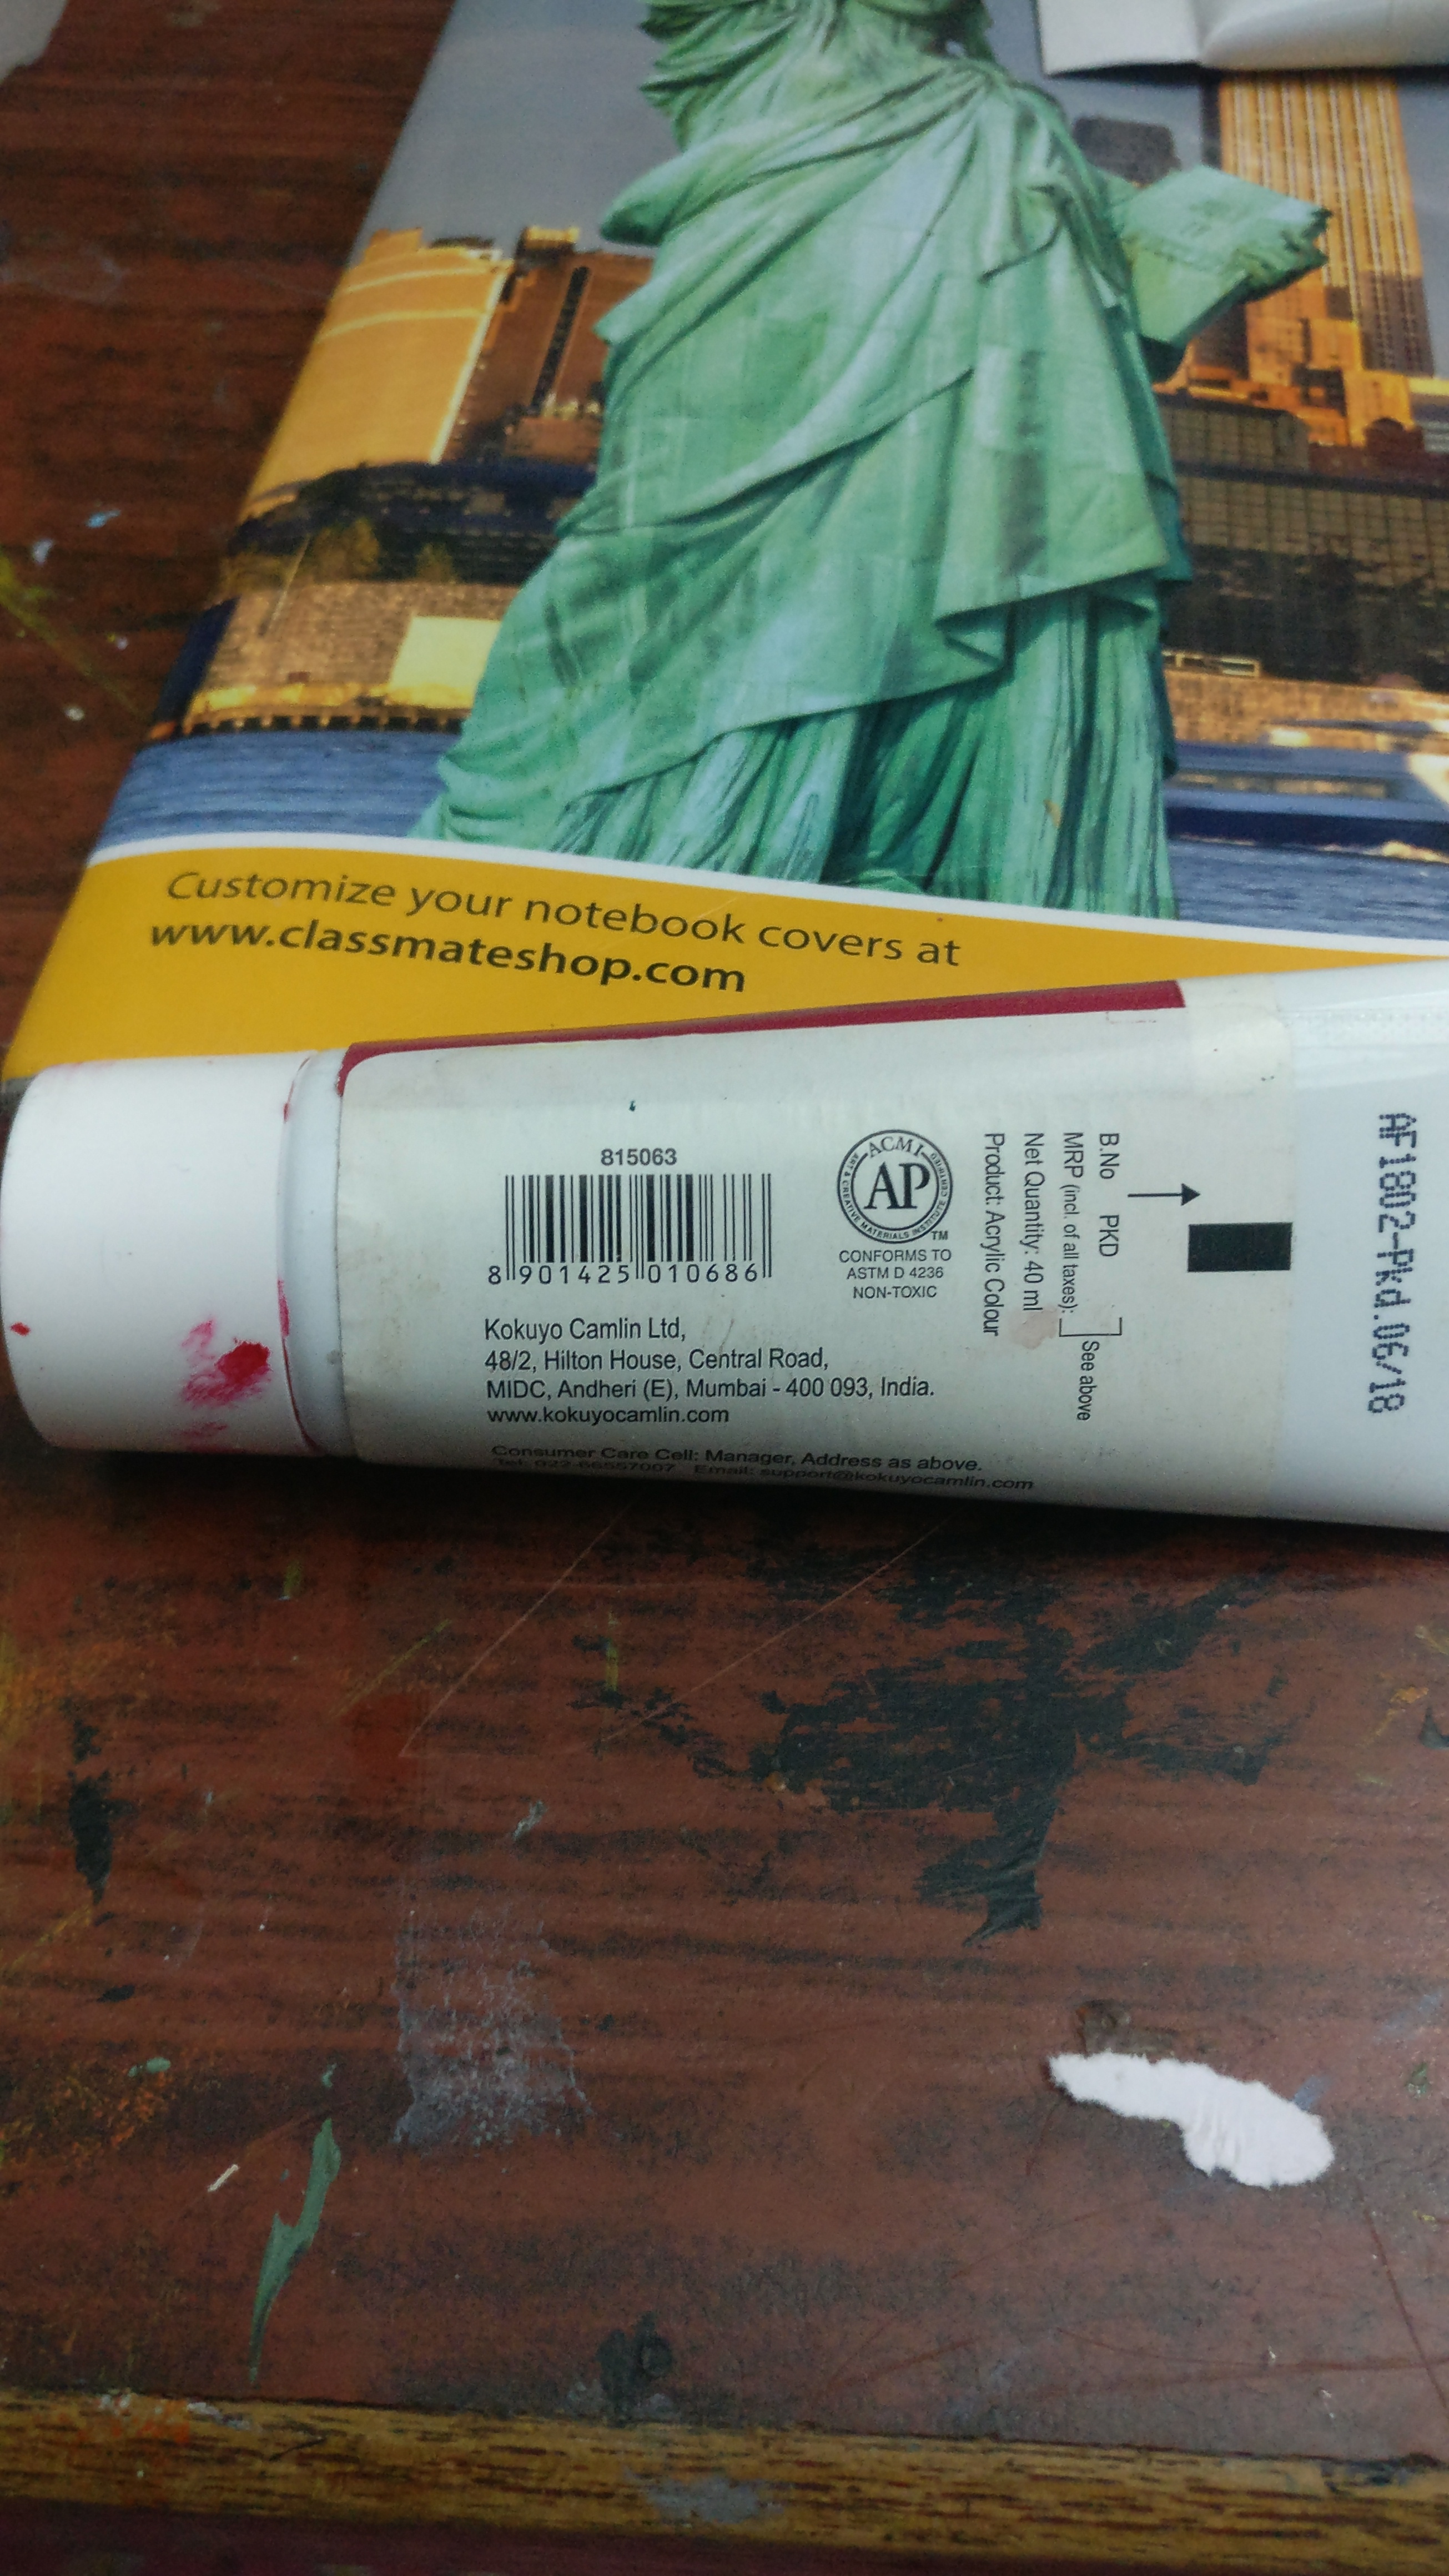barcode: (441, 1132, 794, 1311)
